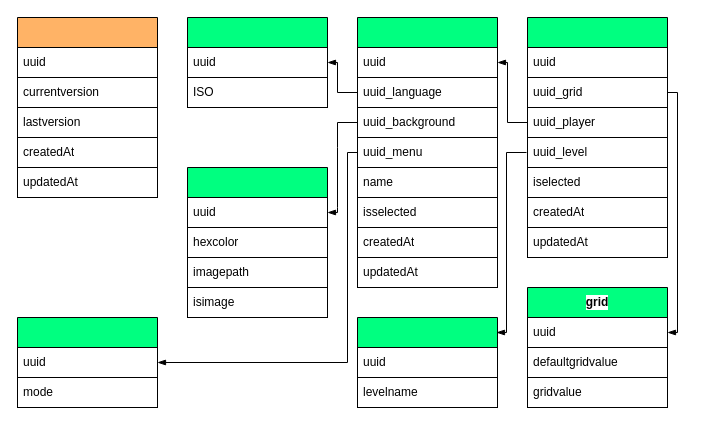
This 703x425 diagram has some shape labels left out. The shapes that lost their labels are listed below. From the top down, each one's box as (x1, y1, x2, y2) in pixels, then its label:
(186, 16, 328, 108): player_language
(16, 16, 158, 198): software
(356, 16, 498, 288): player
(526, 16, 668, 258): game
(186, 166, 328, 318): background
(16, 316, 158, 408): menu
(356, 316, 498, 408): game_level
